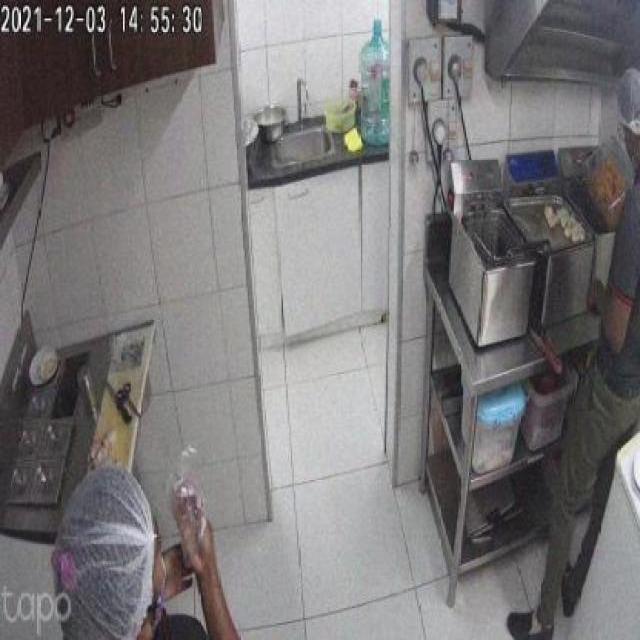hairnet: (62, 468, 152, 640), (619, 67, 640, 130)
